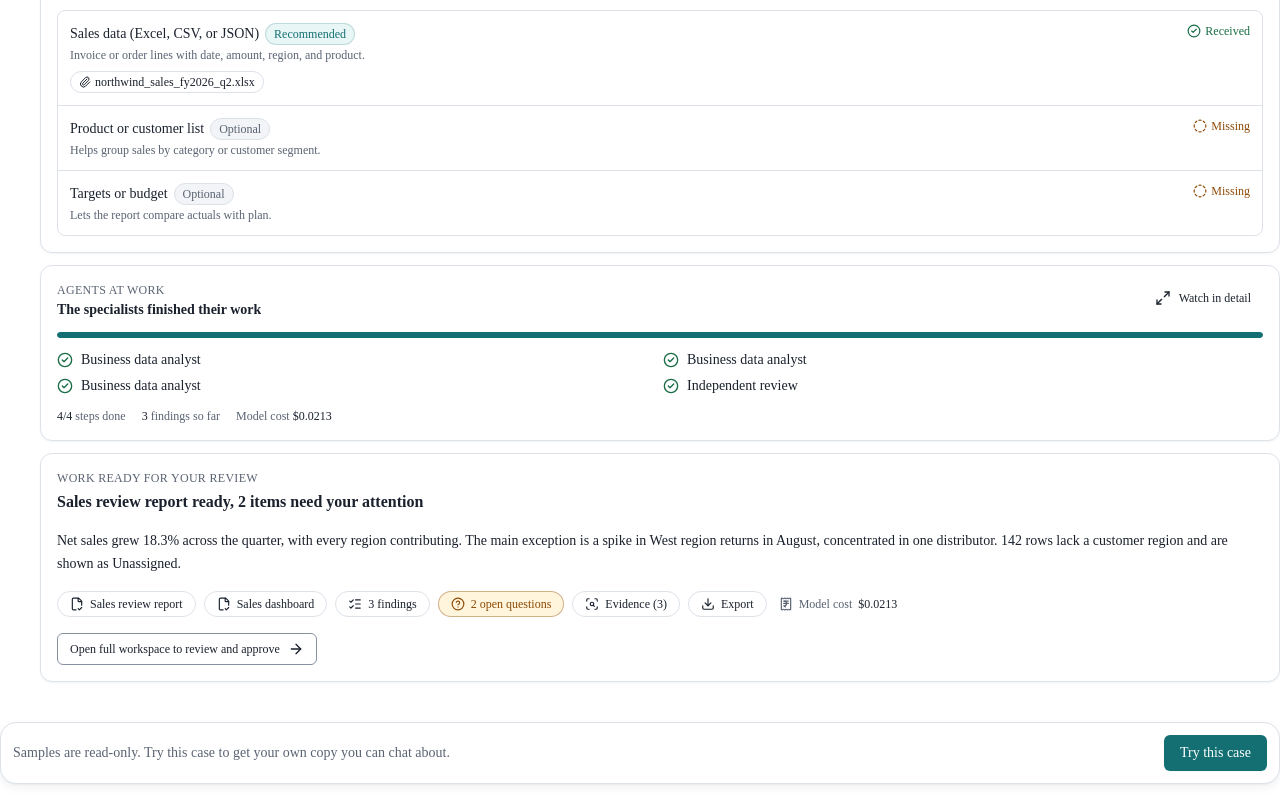
Test: ChatThread › shows a finished sample with its result chips and evidence
(page scrolled)
Expected: the button "Try this case" is shown, top-left (1164, 735), bottom-right (1267, 771)
Click the button "Evidence (3)": (626, 604) top-left (572, 591), bottom-right (680, 617)
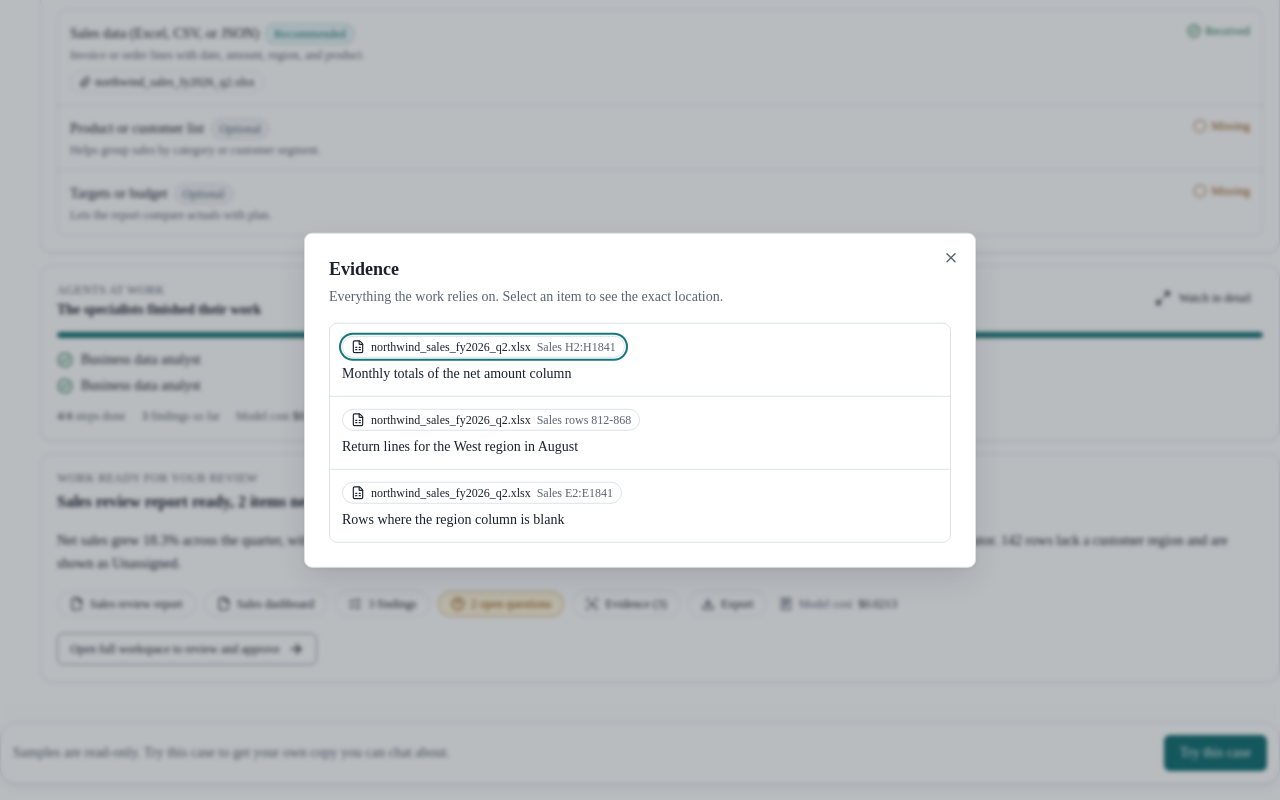
Result: the 1st list item is shown at top-left (342, 335), bottom-right (625, 380)
